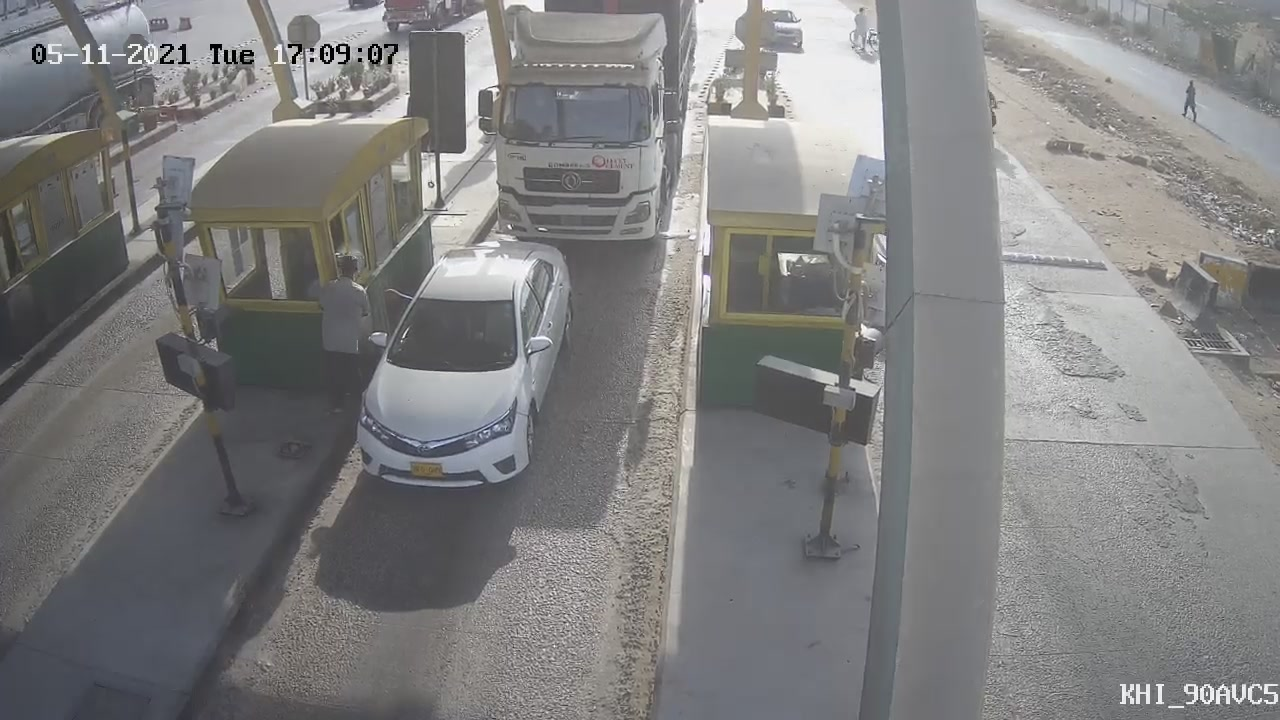F1: (335, 220, 591, 507)
